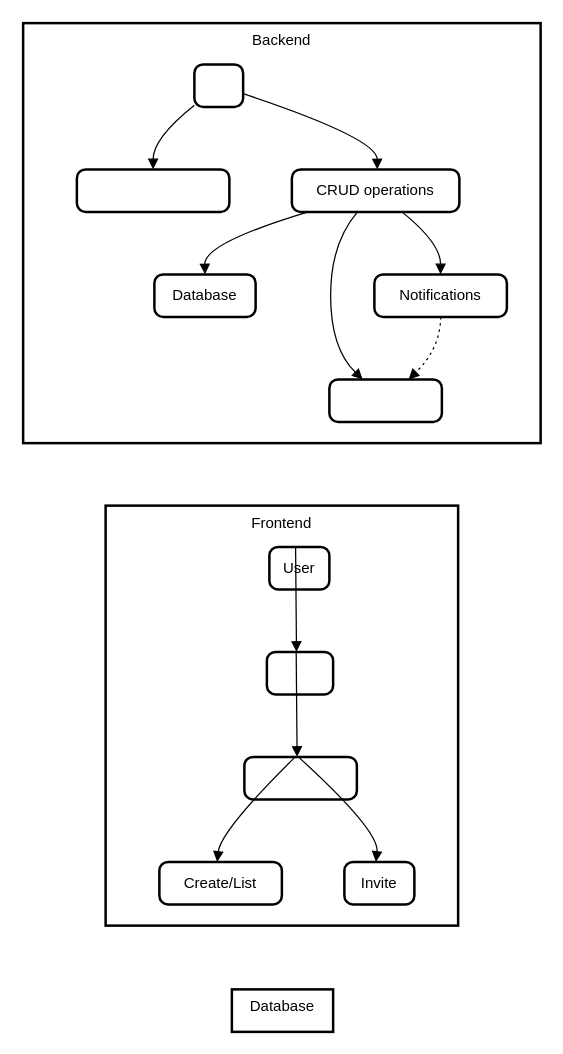
The diagram is 563 pixels wide and 1054 high, and some of its shapes have lost their labels. Each missing label, with the centre of its shape:
API: (x=218, y=85)
Authentication: (x=152, y=190)
Dashboard: (x=300, y=777)
Invitations: (x=385, y=400)
Login: (x=299, y=672)
